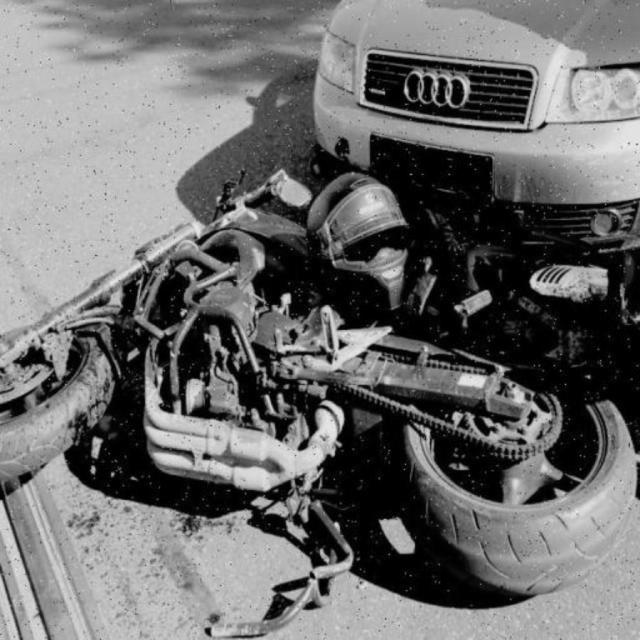accident: (26, 0, 637, 587)
